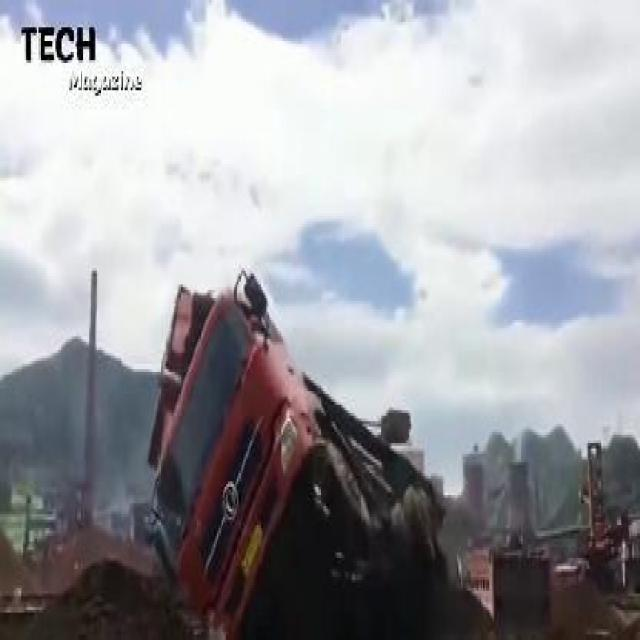accident: (136, 254, 450, 640)
